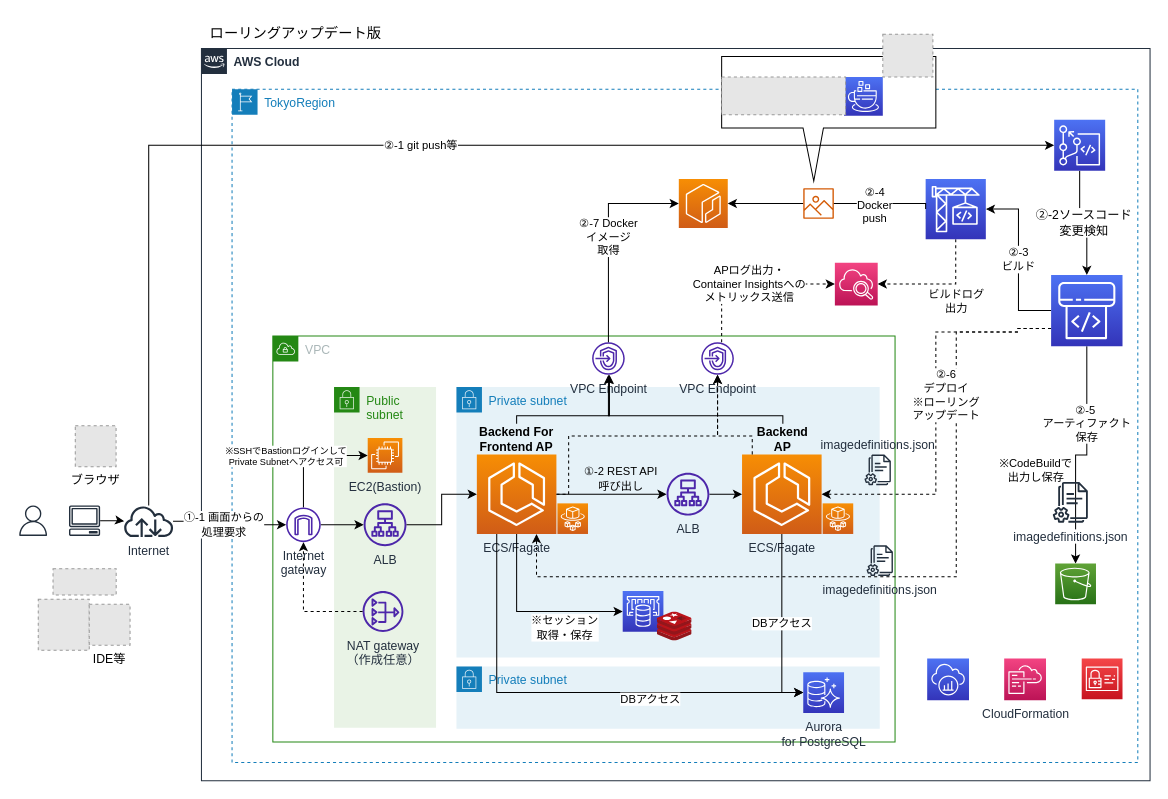
This 1168x799 diagram has some shape labels left out. Grey dashed boxes stand in for pictures. The shapes that lost their labels are listed below. From the top down, each one's centre as x and y in pixels, then its label:
At point (863, 96): "Amazon Corretto".
At point (1079, 145): "CodeCommt".
At point (703, 203): "ECR".
At point (818, 203): "Docker Image".
At point (955, 208): "CodeBuild".
At point (856, 283): "CloudWatch".
At point (1086, 310): "CodePipeline".
At point (84, 520): "Client".
At point (1075, 583): "S3".
At point (642, 611): "ElastiCache for Redis".
At point (947, 678): "X-Ray".
At point (1102, 678): "IAM".
